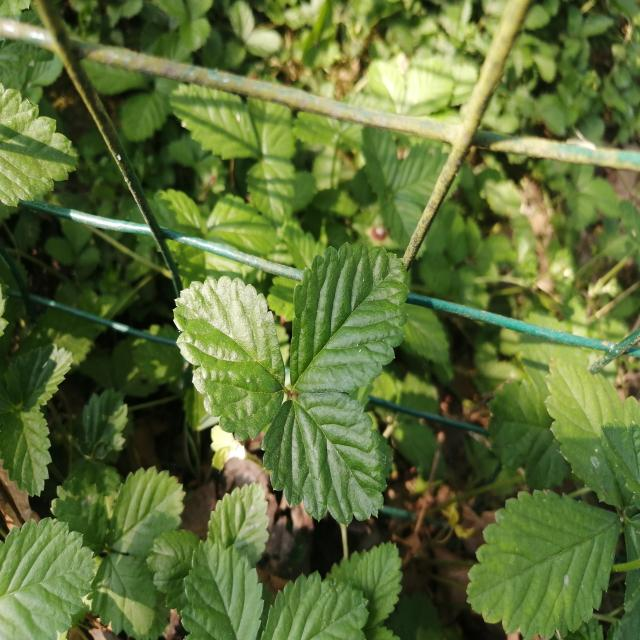Mock_strawberry: (158, 226, 416, 525)
